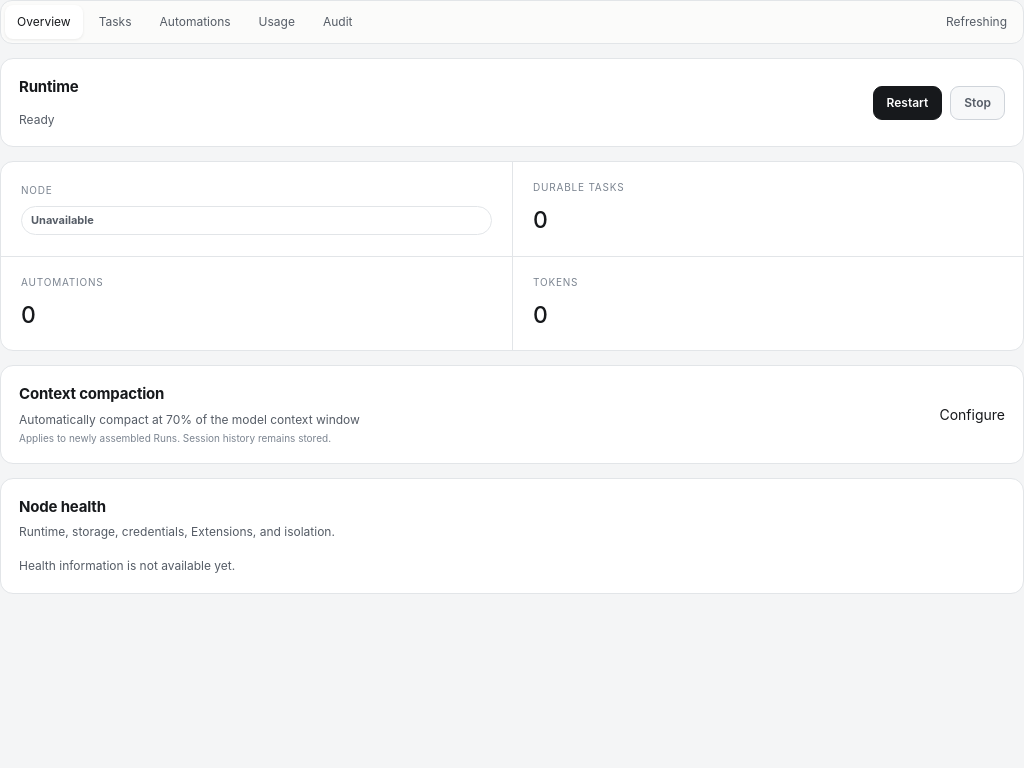
Test: Operations settings › inspects retained Task output through the shared Operations action
Click the button "Tasks" at (115,22), box top-left (87, 5), bottom-right (144, 39)
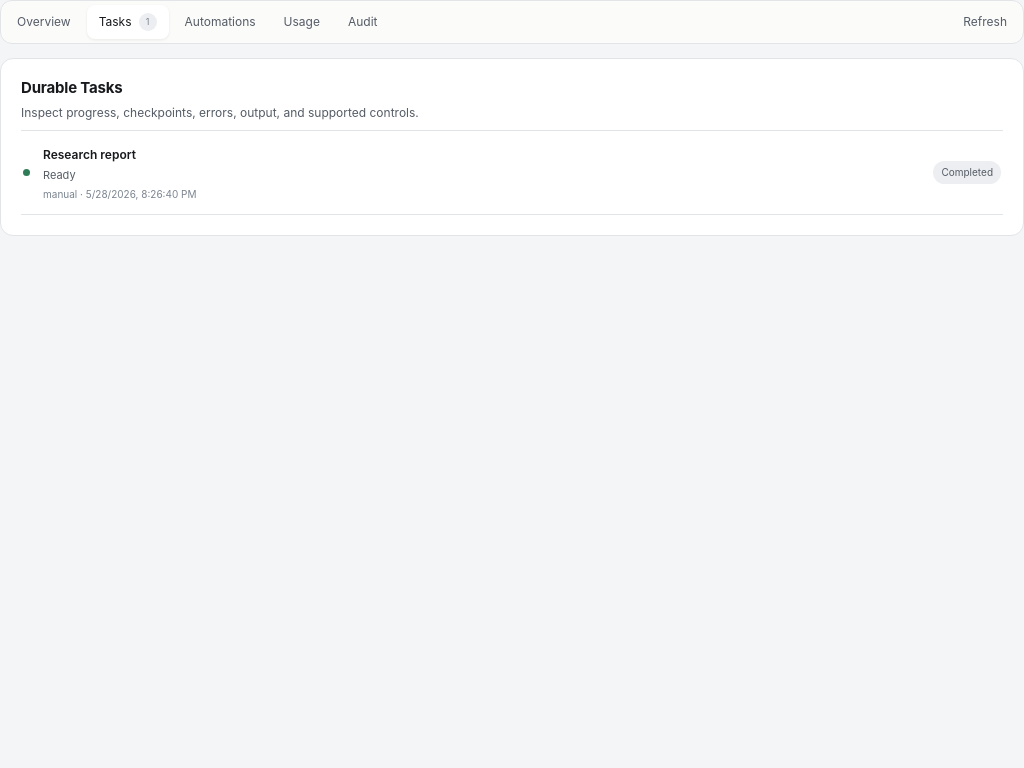
Click the text "Research report" at (89,155), box top-left (43, 147), bottom-right (136, 162)
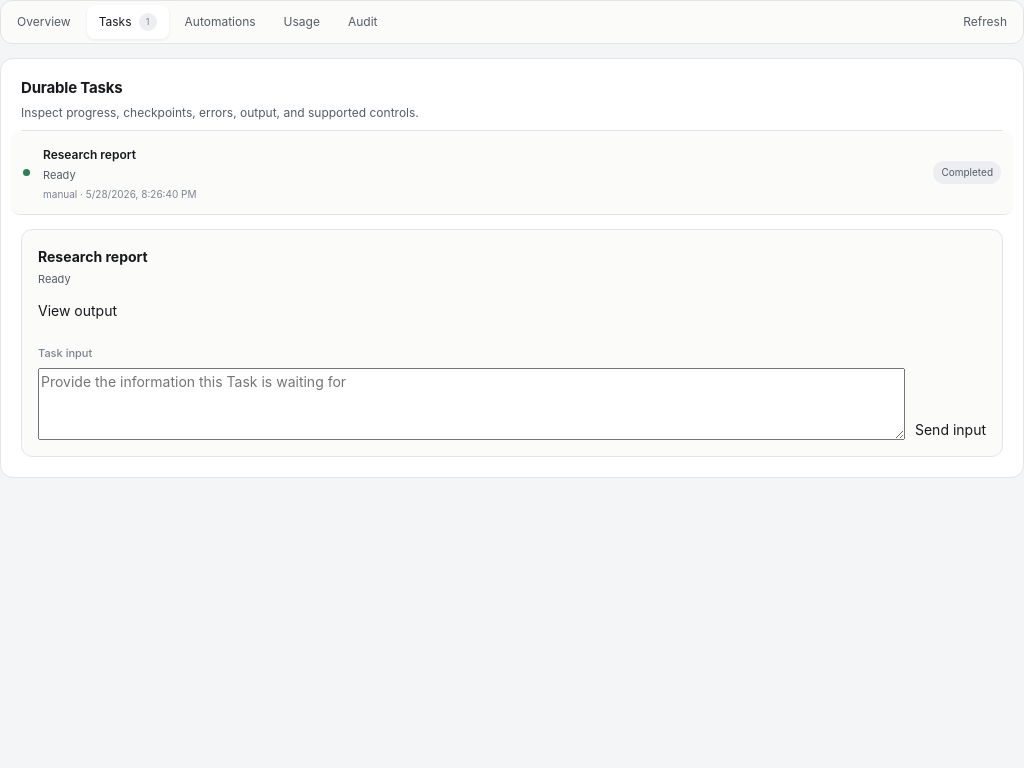
Click the button "View output" at (78,311), box top-left (38, 300), bottom-right (117, 321)
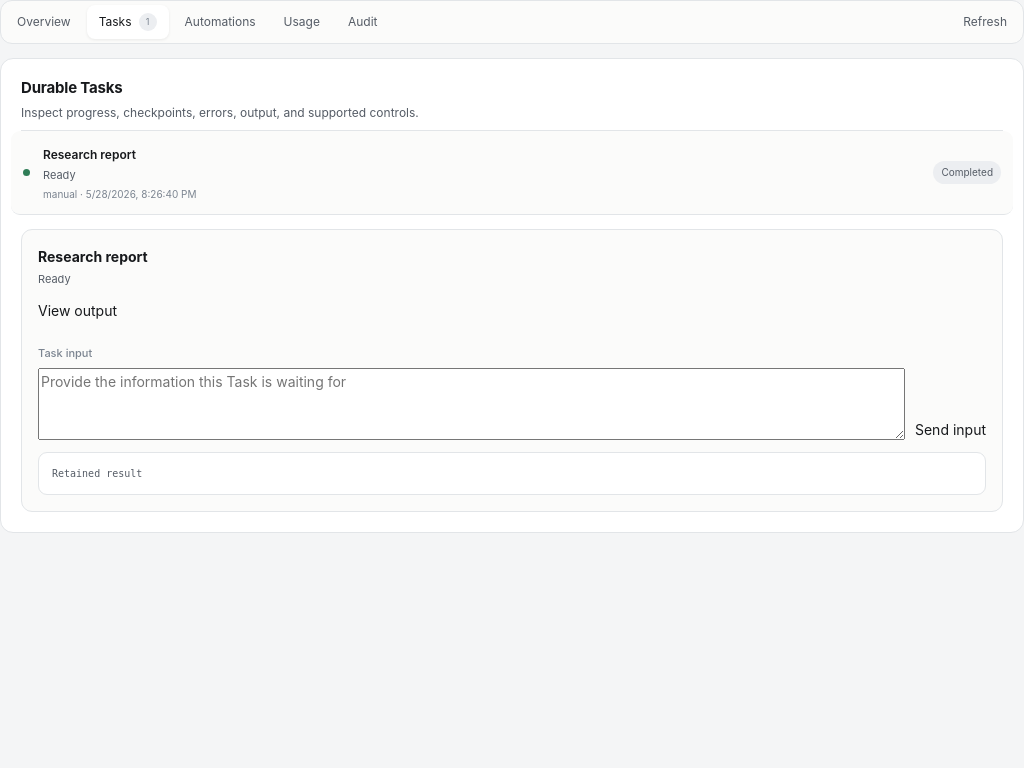
Expected: the text "Retained result" is shown, top-left (38, 452), bottom-right (986, 495)
